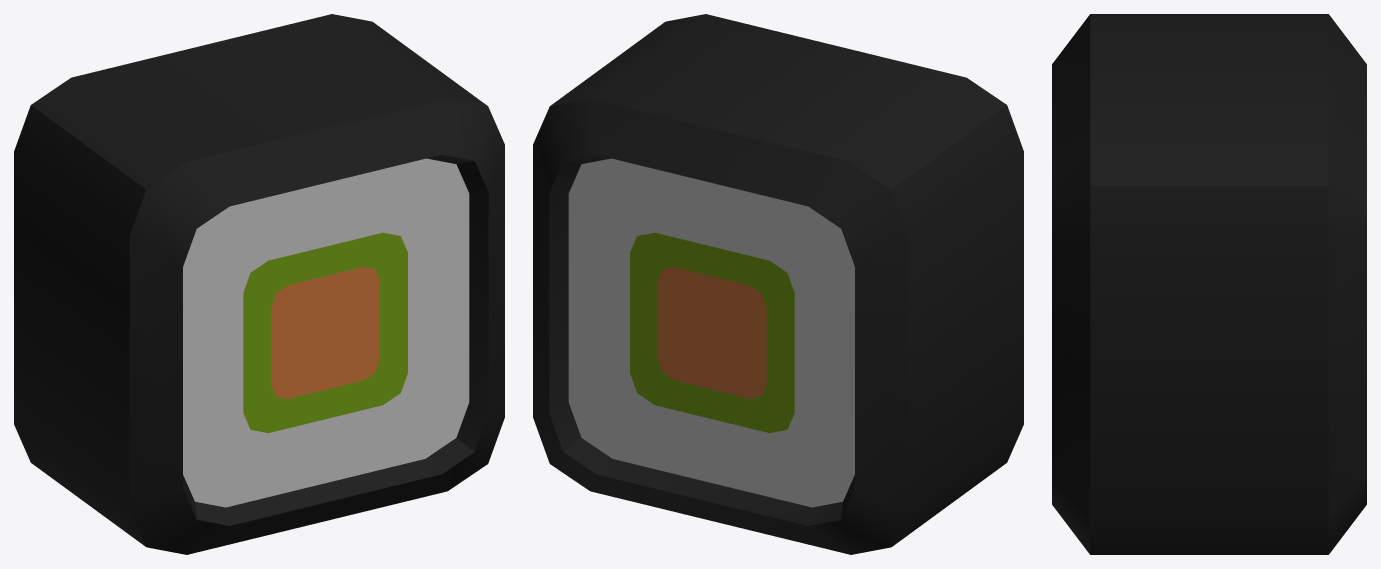
The model's file is roll.glb.
3 views of the same model, side by side, from view 1: azimuth 30°, elevation 25°; view 2: azimuth 150°, elevation 25°; view 3: azimuth 270°, elevation 25° (orthographic). The views are drawn at different scales.
Visible parts, largest first — view 1: Food_Roll; view 2: Food_Roll; view 3: Food_Roll.
Boxes of the visible parts, bbox=[...] form: Food_Roll: bbox=[14, 14, 504, 554]; Food_Roll: bbox=[533, 14, 1023, 554]; Food_Roll: bbox=[1052, 14, 1366, 554].
Bounding box in the file's own units: 0.4333 × 0.4333 × 0.3053.
